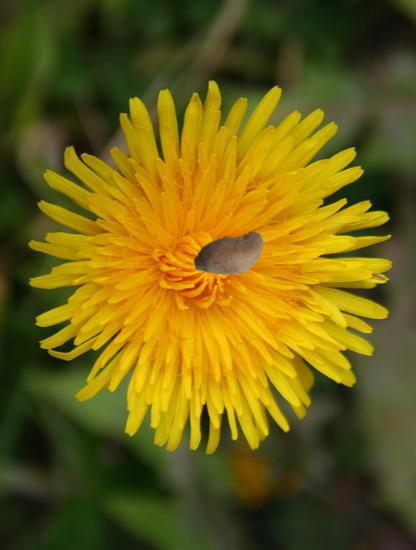Potato: (192, 219, 267, 294)
